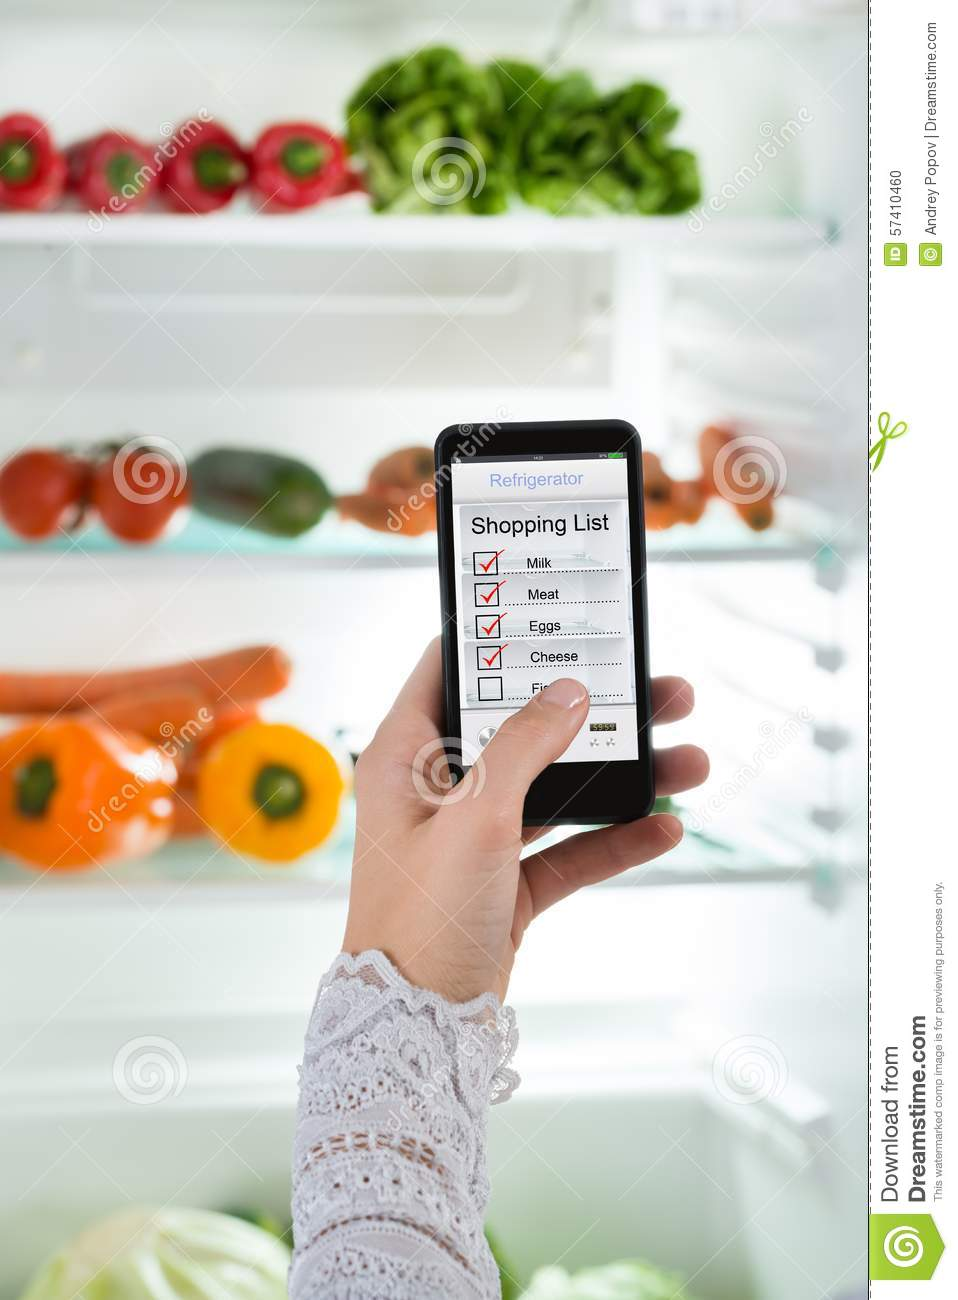smartphone: (432, 417, 657, 827)
